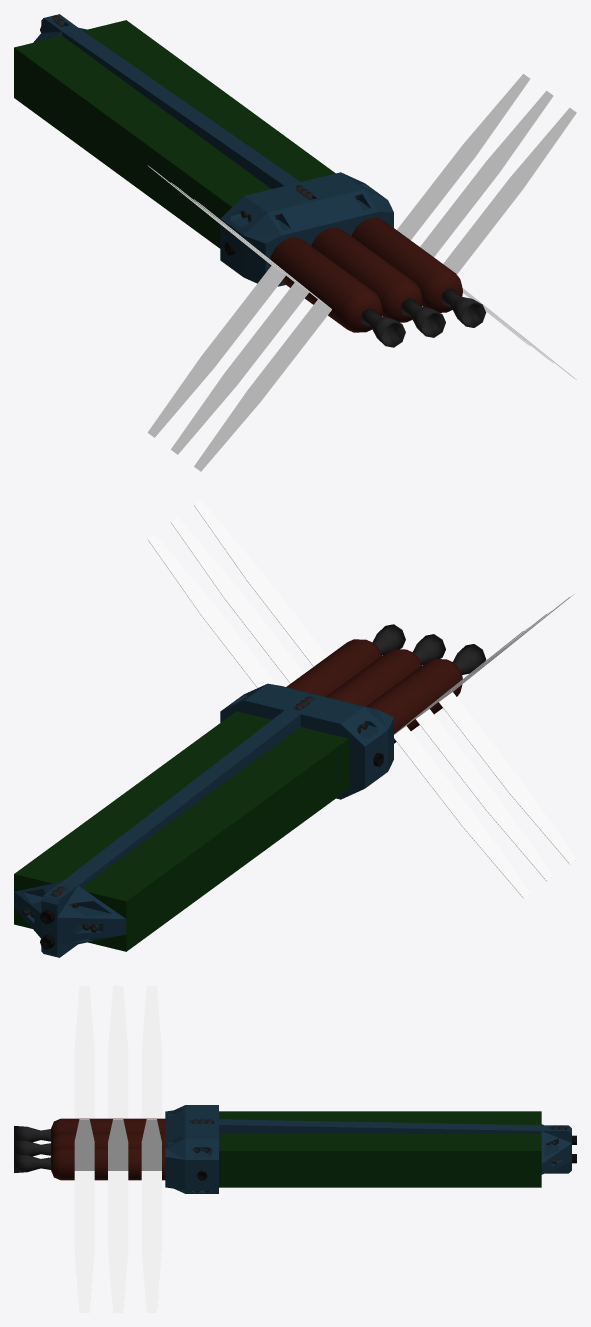
The model's file is FreighterUpdated.obj.
3 renders of one model, top to bottom at view 1: azimuth 30°, elevation 25°; view 2: azimuth 150°, elevation 25°; view 3: azimuth 270°, elevation 25°, orthographic. The views are drawn at different scales.
Visible parts, largest first — view 1: Main_Hull, Plane.001, Plane, Cargo_Containers.003, Cargo_Containers.002, Cargo_Containers.001, Fuel_Tank, Fuel_Tank.002, Fuel_Tank.001, Cargo_Containers, Cargo_Containers.005, Cargo_Containers.004 (+4 smaller); view 2: Main_Hull, Plane.001, Plane, Cargo_Containers.003, Cargo_Containers.002, Cargo_Containers.001, Cargo_Containers, Fuel_Tank, Cargo_Containers.005, Cargo_Containers.004, Fuel_Tank.002, Fuel_Tank.001 (+4 smaller); view 3: Main_Hull, Plane.003, Plane.002, Cargo_Containers.004, Cargo_Containers.005, Cargo_Containers, Plane, Fuel_Tank.002, Cargo_Containers.003, Cargo_Containers.002, Fuel_Tank, Cargo_Containers.001 (+4 smaller).
Boxes of the visible parts, x1,y1,x2,y2 form: Main_Hull: (33, 14, 393, 286); Plane.001: (147, 265, 331, 471); Plane: (397, 74, 576, 274); Cargo_Containers.003: (14, 36, 135, 151); Cargo_Containers.002: (88, 90, 209, 205); Cargo_Containers.001: (162, 144, 271, 248); Fuel_Tank: (269, 237, 382, 332); Fuel_Tank.002: (351, 218, 462, 312); Fuel_Tank.001: (311, 227, 422, 322); Cargo_Containers: (83, 20, 199, 83); Cargo_Containers.005: (160, 74, 274, 137); Cargo_Containers.004: (237, 128, 335, 181); Main_Hull: (14, 683, 393, 957); Plane.001: (394, 692, 576, 897); Plane: (147, 500, 327, 687); Cargo_Containers.003: (81, 835, 200, 951); Cargo_Containers.002: (152, 781, 274, 896); Cargo_Containers.001: (227, 727, 348, 842); Cargo_Containers: (14, 820, 128, 928); Fuel_Tank: (367, 659, 462, 743); Cargo_Containers.005: (88, 765, 200, 829); Cargo_Containers.004: (162, 711, 271, 774); Fuel_Tank.002: (286, 639, 381, 696); Fuel_Tank.001: (326, 649, 421, 706); Main_Hull: (165, 1105, 571, 1193); Plane.003: (74, 1171, 161, 1312); Plane.002: (74, 986, 161, 1118); Cargo_Containers.004: (219, 1134, 326, 1187); Cargo_Containers.005: (326, 1134, 433, 1187); Cargo_Containers: (434, 1134, 541, 1187); Plane: (74, 1119, 161, 1170); Fuel_Tank.002: (51, 1147, 165, 1180); Cargo_Containers.003: (434, 1111, 541, 1125); Cargo_Containers.002: (326, 1111, 433, 1123); Fuel_Tank: (51, 1118, 165, 1141); Cargo_Containers.001: (219, 1111, 326, 1121).
Bounding box in the file's own units: 93.71 × 63.71 × 168.
